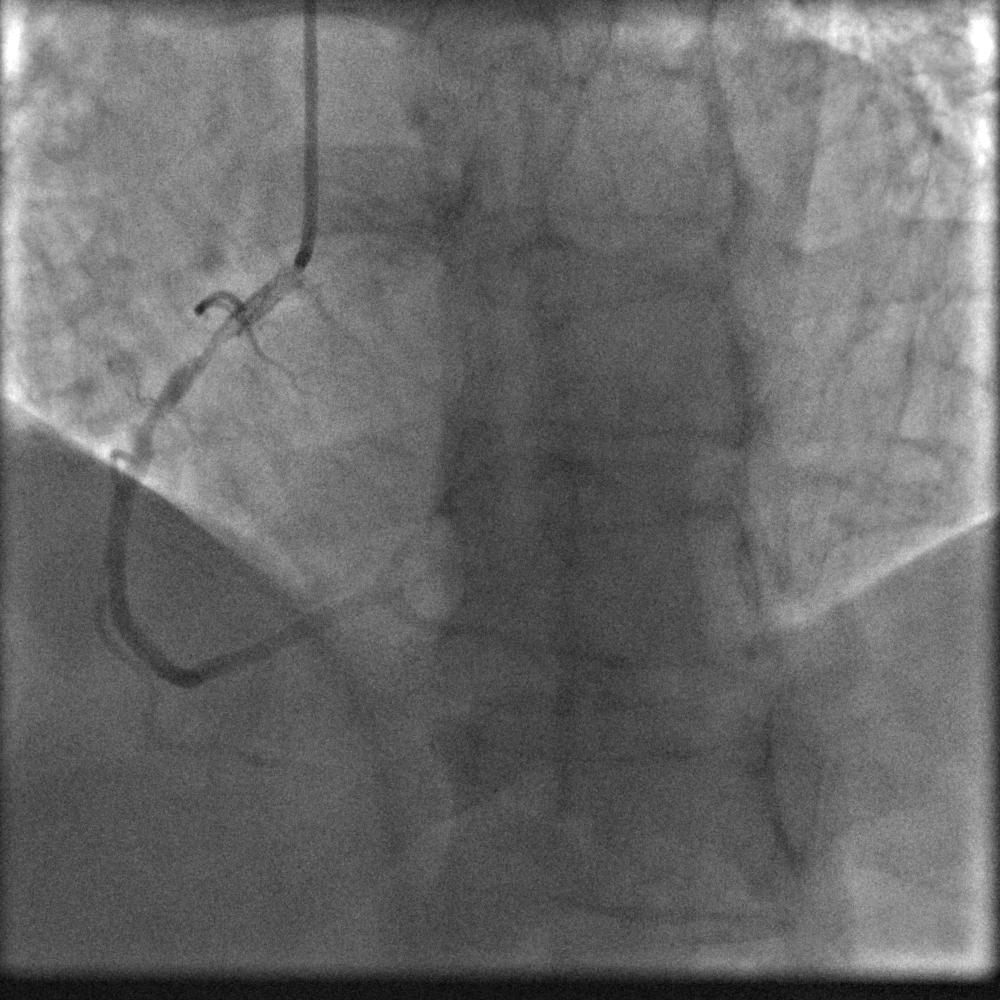Stenosis: (181, 324, 229, 370)
